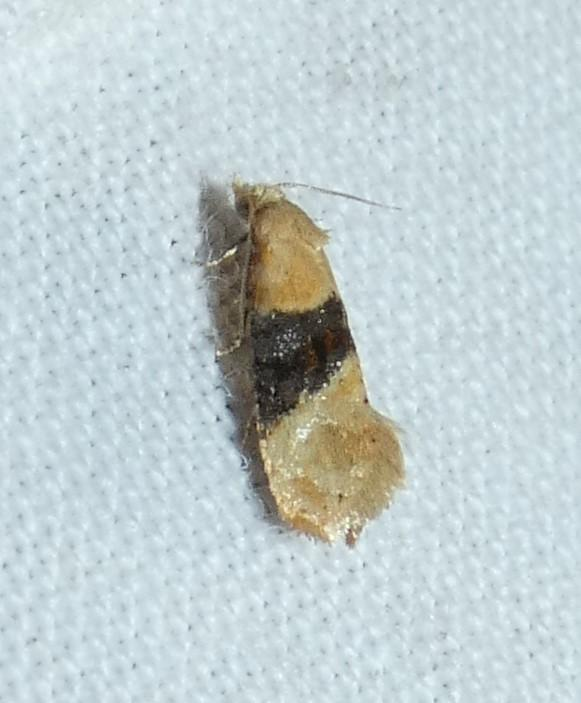Eupoecilia Ambiguella: (191, 170, 410, 550)
